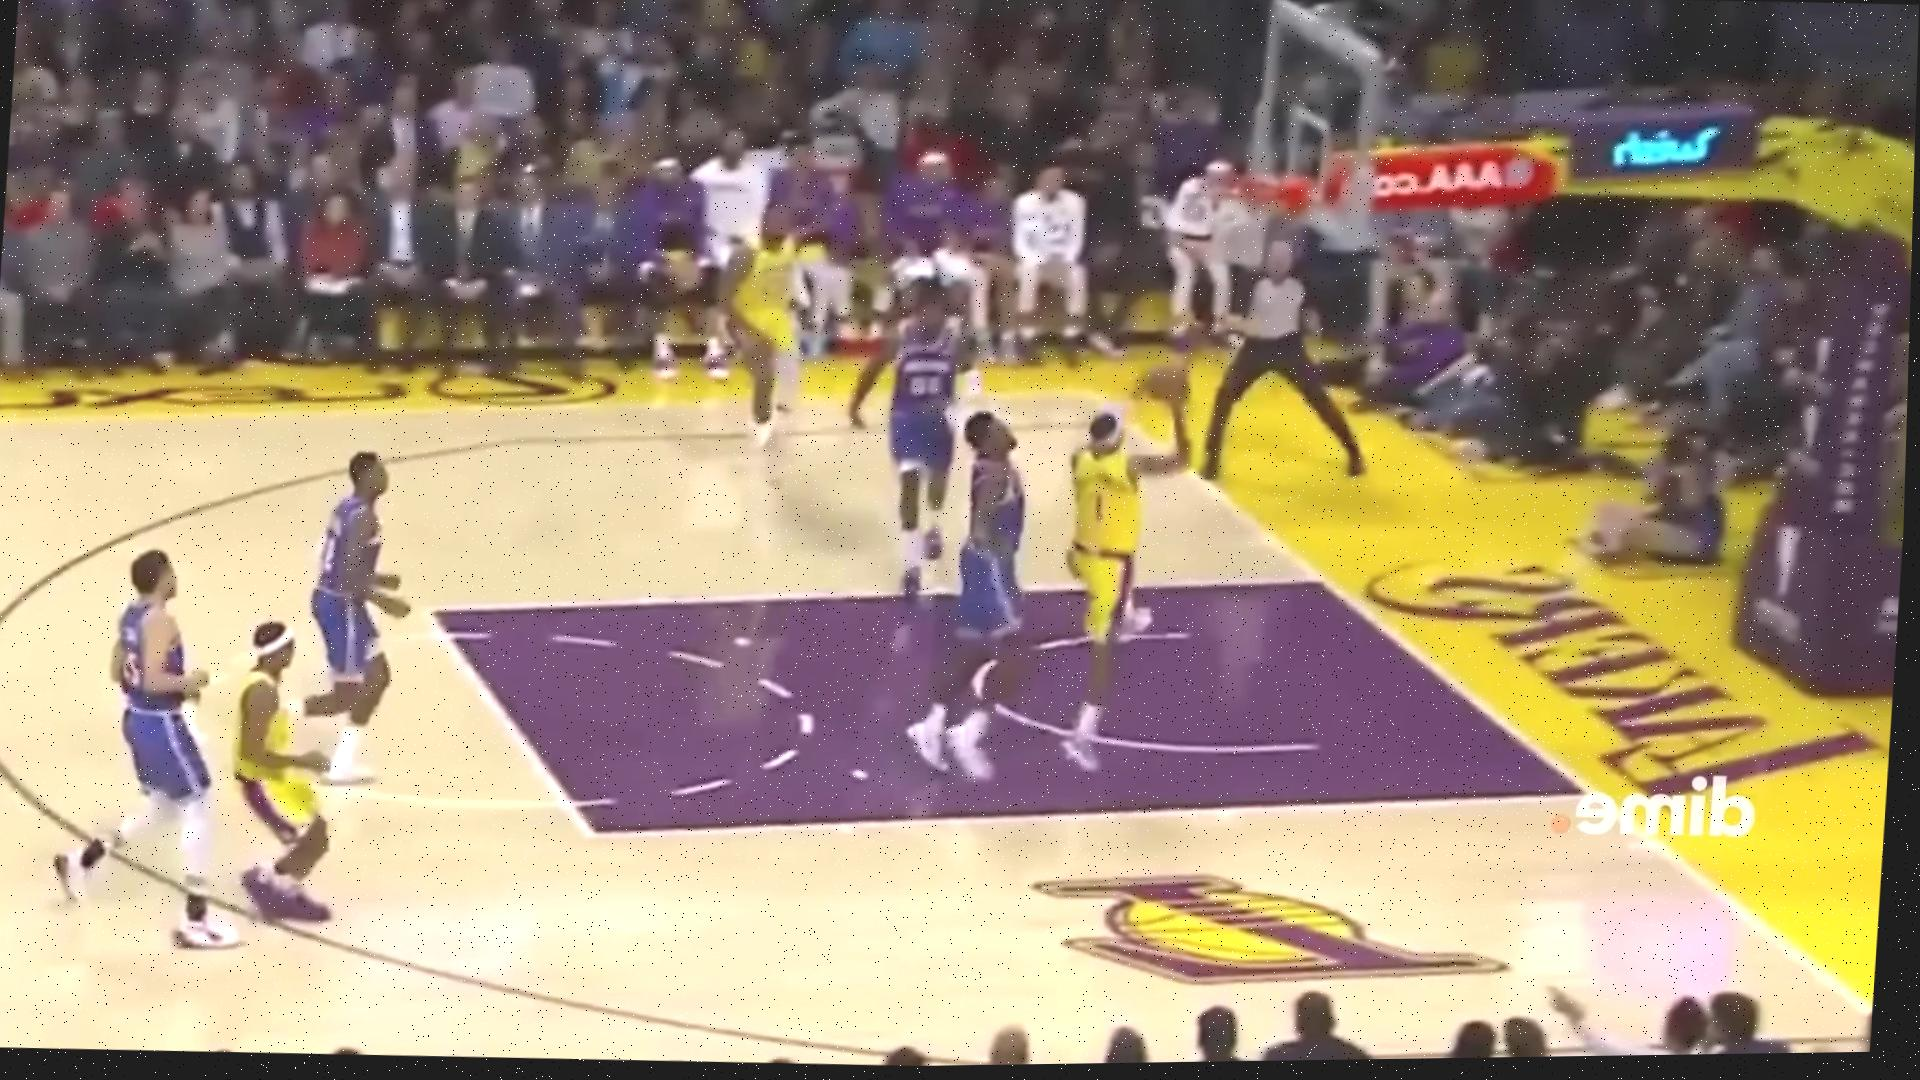no_foul: (918, 390, 1158, 793)
